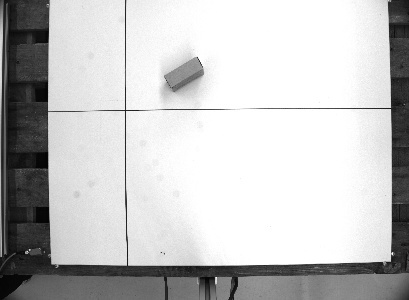b1: (162, 55, 206, 93)
